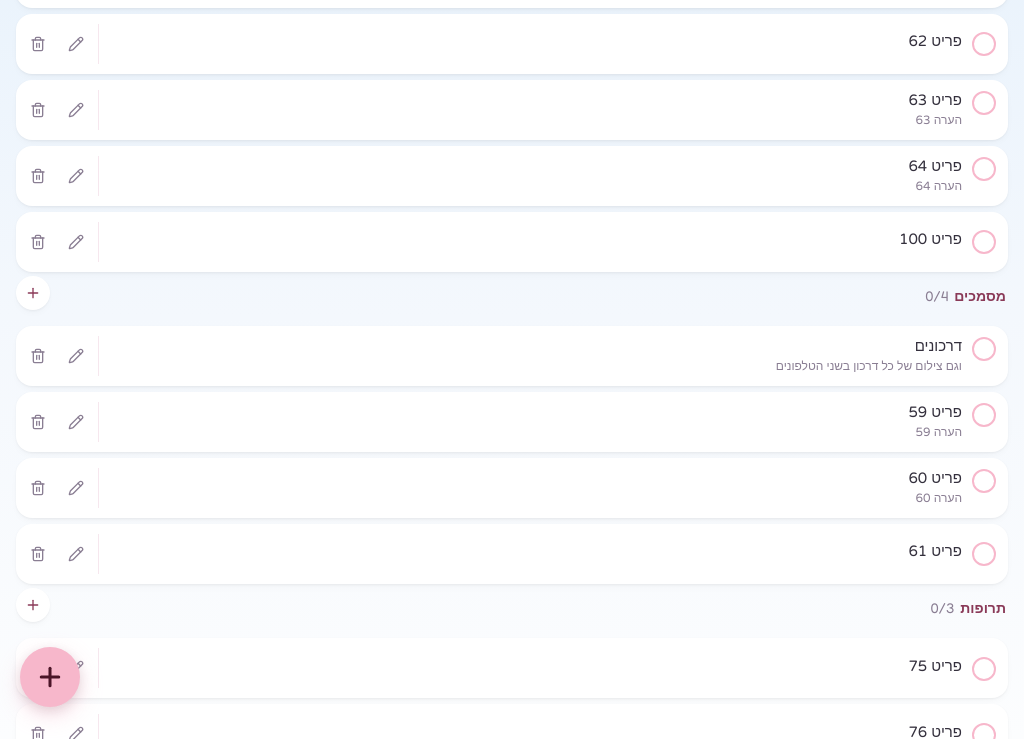
Scenario: an item in several lists › adds the same item to another list, and says so on its card and in the edit
(page scrolled)
Click the button named "עריכת דרכונים" at {"x": 76, "y": 356}, box [58,336,94,376]
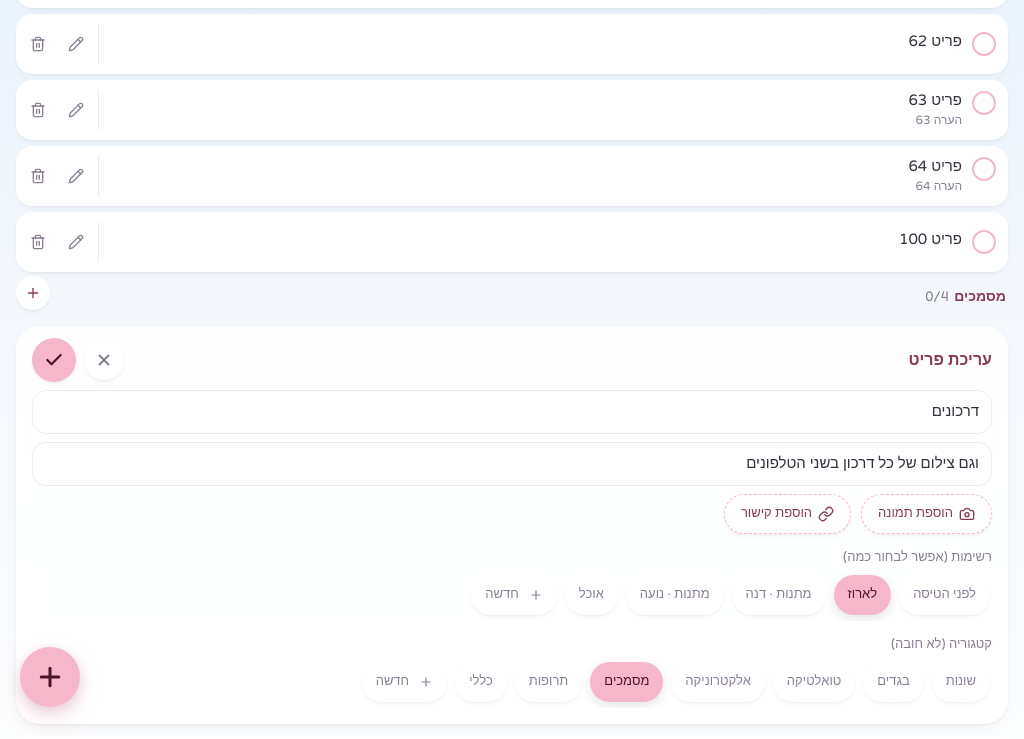
Click the button "אוכל" at {"x": 591, "y": 595}, box [565,575,618,615]
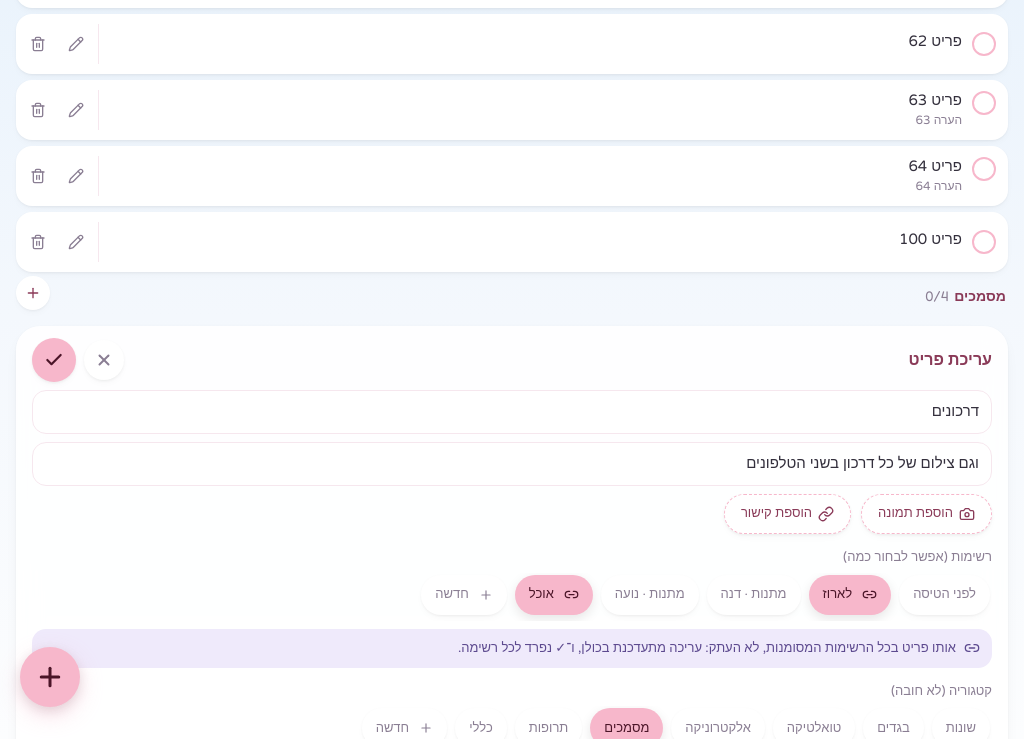
Result: the text "אותו פריט בכל הרשימות המסומנות, לא העתק: עריכה מתעדכנת בכולן, ו־✓ נפרד לכל רשימה." is shown at [458,640,956,656]
Click the button named "שמירה" at {"x": 54, "y": 360}, box [32,338,76,382]
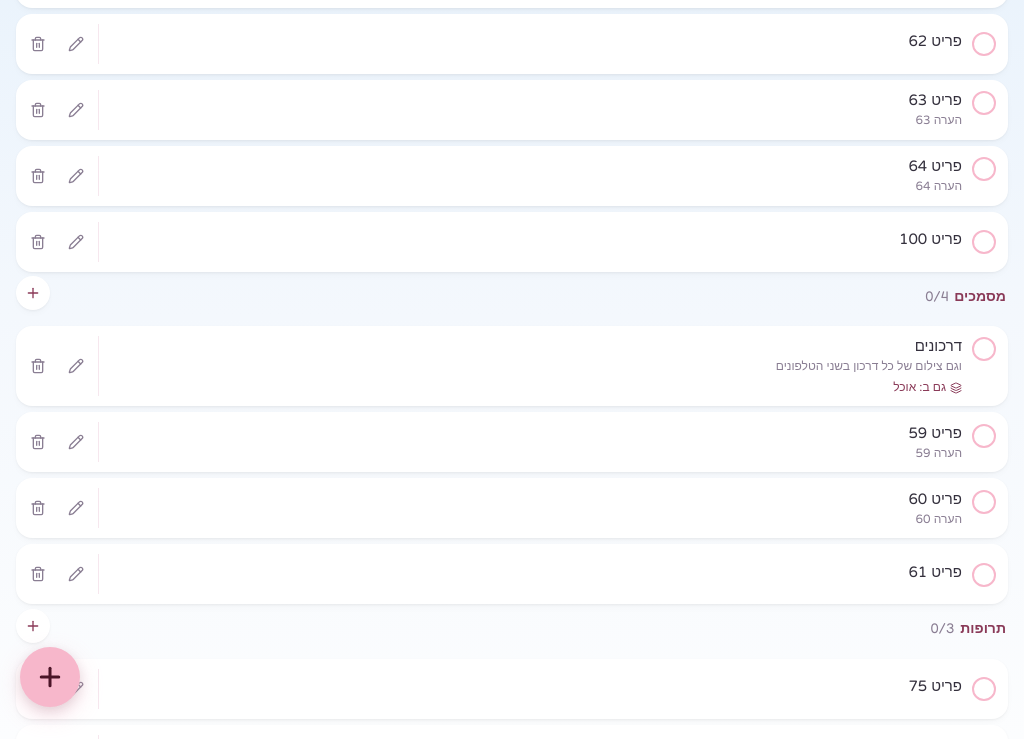
Result: the text "גם ב: אוכל" is shown at [893,379,962,396]
